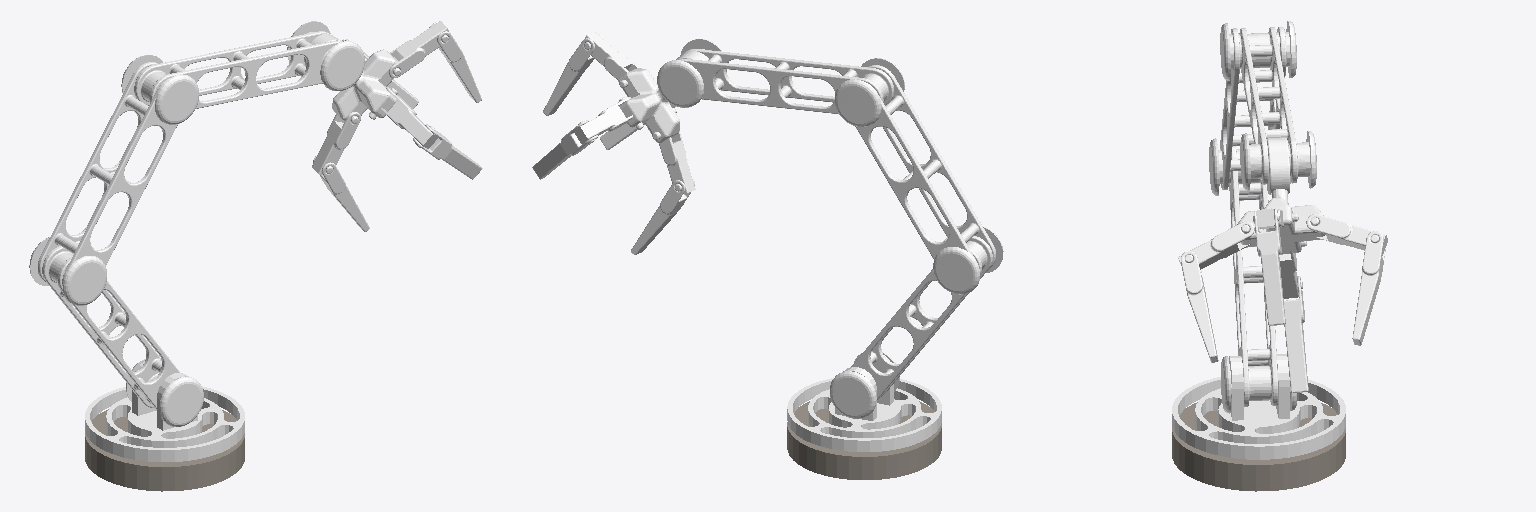
The robot description file, URDF, robot "big_arm_urdf":
<?xml version="1.0" encoding="utf-8"?>
<!-- This URDF was automatically created by SolidWorks to URDF Exporter! Originally created by [author] ([email redacted]) 
     Commit Version: 1.5.1-0-g916b5db  Build Version: 1.5.7152.31018
     For more information, please see http://wiki.ros.org/sw_urdf_exporter -->
<robot
  name="big_arm_urdf">
  <link
    name="base_link">
    <inertial>
      <origin
        xyz="5.10334886736748E-36 -1.54939116262366E-18 0.0248239436619718"
        rpy="0 0 0" />
      <mass
        value="25.4419917555561" />
      <inertia
        ixx="0.150370490434844"
        ixy="-8.31151180314476E-36"
        ixz="-1.89588324363783E-34"
        iyy="0.150370490434844"
        iyz="8.4912872199433E-18"
        izz="0.290141728163054" />
    </inertial>
    <visual>
      <origin
        xyz="0 0 0"
        rpy="0 0 0" />
      <geometry>
        <mesh
          filename="package://big_arm_urdf/meshes/base_link.STL" />
      </geometry>
      <material
        name="">
        <color
          rgba="0.647058823529412 0.619607843137255 0.588235294117647 1" />
      </material>
    </visual>
    <collision>
      <origin
        xyz="0 0 0"
        rpy="0 0 0" />
      <geometry>
        <mesh
          filename="package://big_arm_urdf/meshes/base_link.STL" />
      </geometry>
    </collision>
  </link>
  <link
    name="link_1">
    <inertial>
      <origin
        xyz="-6.72935833564308E-17 5.41722740362335E-16 0.0562858835388927"
        rpy="0 0 0" />
      <mass
        value="1.24036308689963" />
      <inertia
        ixx="0.00602313752636761"
        ixy="2.1208125474502E-05"
        ixz="-1.04263858784396E-18"
        iyy="0.00579248437417585"
        iyz="-5.09141599596496E-19"
        izz="0.0098329939500295" />
    </inertial>
    <visual>
      <origin
        xyz="0 0 0"
        rpy="0 0 0" />
      <geometry>
        <mesh
          filename="package://big_arm_urdf/meshes/link_1.STL" />
      </geometry>
      <material
        name="">
        <color
          rgba="1 1 1 0.32" />
      </material>
    </visual>
    <collision>
      <origin
        xyz="0 0 0"
        rpy="0 0 0" />
      <geometry>
        <mesh
          filename="package://big_arm_urdf/meshes/link_1.STL" />
      </geometry>
    </collision>
  </link>
  <joint
    name="joint_base_1"
    type="continuous">
    <origin
      xyz="0 0 0.025"
      rpy="0 0 0" />
    <parent
      link="base_link" />
    <child
      link="link_1" />
    <axis
      xyz="0 0 1" />
    <limit
      lower="0"
      upper="6.183"
      effort="1000"
      velocity="10" />
  </joint>
  <link
    name="link_2">
    <inertial>
      <origin
        xyz="0.19 3.7470027081099E-16 -3.12389003553903E-16"
        rpy="0 0 0" />
      <mass
        value="1.38058358126134" />
      <inertia
        ixx="0.00248849839246422"
        ixy="5.07965658468404E-18"
        ixz="-3.90312782094782E-18"
        iyy="0.0437476242743762"
        iyz="-8.67361737988404E-19"
        izz="0.0425687229272136" />
    </inertial>
    <visual>
      <origin
        xyz="0 0 0"
        rpy="0 0 0" />
      <geometry>
        <mesh
          filename="package://big_arm_urdf/meshes/link_2.STL" />
      </geometry>
      <material
        name="">
        <color
          rgba="1 1 1 0.32" />
      </material>
    </visual>
    <collision>
      <origin
        xyz="0 0 0"
        rpy="0 0 0" />
      <geometry>
        <mesh
          filename="package://big_arm_urdf/meshes/link_2.STL" />
      </geometry>
    </collision>
  </link>
  <joint
    name="joint_12"
    type="revolute">
    <origin
      xyz="0 0 0.11"
      rpy="-1.5708 -0.95024 -3.0507" />
    <parent
      link="link_1" />
    <child
      link="link_2" />
    <axis
      xyz="0 0 1" />
    <limit
      lower="0"
      upper="6.183"
      effort="1000"
      velocity="10" />
  </joint>
  <link
    name="link_3">
    <inertial>
      <origin
        xyz="0.190000000000009 1.0991207943789E-14 2.35922392732846E-16"
        rpy="0 0 0" />
      <mass
        value="0.492773406896242" />
      <inertia
        ixx="0.000993126064016739"
        ixy="-1.98629226131133E-19"
        ixz="-1.47383732822248E-18"
        iyy="0.00882828983439309"
        iyz="-3.79470760369927E-19"
        izz="0.00857639886635598" />
    </inertial>
    <visual>
      <origin
        xyz="0 0 0"
        rpy="0 0 0" />
      <geometry>
        <mesh
          filename="package://big_arm_urdf/meshes/link_3.STL" />
      </geometry>
      <material
        name="">
        <color
          rgba="1 1 1 0.32" />
      </material>
    </visual>
    <collision>
      <origin
        xyz="0 0 0"
        rpy="0 0 0" />
      <geometry>
        <mesh
          filename="package://big_arm_urdf/meshes/link_3.STL" />
      </geometry>
    </collision>
  </link>
  <joint
    name="joint_23"
    type="revolute">
    <origin
      xyz="0.38 0 0"
      rpy="0 0 -1.207" />
    <parent
      link="link_2" />
    <child
      link="link_3" />
    <axis
      xyz="0 0 1" />
    <limit
      lower="0"
      upper="6.183"
      effort="1000"
      velocity="10" />
  </joint>
  <link
    name="link_4">
    <inertial>
      <origin
        xyz="0.188502975963012 -0.0164677703024454 -0.0171883854493124"
        rpy="0 0 0" />
      <mass
        value="1.38058358126134" />
      <inertia
        ixx="0.00312638334029432"
        ixy="0.00354785475887284"
        ixz="0.00359649566474575"
        iyy="0.0434376808533928"
        iyz="-0.000323506272525106"
        izz="0.0422407814003671" />
    </inertial>
    <visual>
      <origin
        xyz="0 0 0"
        rpy="0 0 0" />
      <geometry>
        <mesh
          filename="package://big_arm_urdf/meshes/link_4.STL" />
      </geometry>
      <material
        name="">
        <color
          rgba="1 1 1 0.32" />
      </material>
    </visual>
    <collision>
      <origin
        xyz="0 0 0"
        rpy="0 0 0" />
      <geometry>
        <mesh
          filename="package://big_arm_urdf/meshes/link_4.STL" />
      </geometry>
    </collision>
  </link>
  <joint
    name="joint_34"
    type="revolute">
    <origin
      xyz="0.38 0 0"
      rpy="0 -0.090932 -0.98436" />
    <parent
      link="link_3" />
    <child
      link="link_4" />
    <axis
      xyz="0 0 1" />
    <limit
      lower="0"
      upper="6.183"
      effort="1000"
      velocity="10" />
  </joint>
  <link
    name="link_5">
    <inertial>
      <origin
        xyz="-0.0141429450104605 7.53233908579176E-08 0.00199995138060591"
        rpy="0 0 0" />
      <mass
        value="0.130378439395373" />
      <inertia
        ixx="9.85693744749924E-05"
        ixy="-2.23559602004266E-09"
        ixz="-7.5663588800688E-11"
        iyy="0.000116973092049288"
        iyz="5.32702014819344E-11"
        izz="0.0001866513337855" />
    </inertial>
    <visual>
      <origin
        xyz="0 0 0"
        rpy="0 0 0" />
      <geometry>
        <mesh
          filename="package://big_arm_urdf/meshes/link_5.STL" />
      </geometry>
      <material
        name="">
        <color
          rgba="1 1 1 0.32" />
      </material>
    </visual>
    <collision>
      <origin
        xyz="0 0 0"
        rpy="0 0 0" />
      <geometry>
        <mesh
          filename="package://big_arm_urdf/meshes/link_5.STL" />
      </geometry>
    </collision>
  </link>
  <joint
    name="joint_45"
    type="revolute">
    <origin
      xyz="0.37701 -0.032936 -0.034377"
      rpy="0.062559 -0.066036 2.3822" />
    <parent
      link="link_4" />
    <child
      link="link_5" />
    <axis
      xyz="0 0 1" />
    <limit
      lower="0"
      upper="6.183"
      effort="1000"
      velocity="10" />
  </joint>
  <link
    name="link_6">
    <inertial>
      <origin
        xyz="-4.97039481107964E-07 2.63088229068842E-06 0.0786774570131245"
        rpy="0 0 0" />
      <mass
        value="0.665759903912911" />
      <inertia
        ixx="0.000952789706275326"
        ixy="-1.38154320697555E-08"
        ixz="-8.31042935225815E-10"
        iyy="0.00095286060074004"
        iyz="4.52211814098408E-09"
        izz="0.00141997991990691" />
    </inertial>
    <visual>
      <origin
        xyz="0 0 0"
        rpy="0 0 0" />
      <geometry>
        <mesh
          filename="package://big_arm_urdf/meshes/link_6.STL" />
      </geometry>
      <material
        name="">
        <color
          rgba="1 1 1 0.32" />
      </material>
    </visual>
    <collision>
      <origin
        xyz="0 0 0"
        rpy="0 0 0" />
      <geometry>
        <mesh
          filename="package://big_arm_urdf/meshes/link_6.STL" />
      </geometry>
    </collision>
  </link>
  <joint
    name="joint_56"
    type="revolute">
    <origin
      xyz="-0.04 0 0.002"
      rpy="-2.3654 1.5708 0.77614" />
    <parent
      link="link_5" />
    <child
      link="link_6" />
    <axis
      xyz="0 0 1" />
    <limit
      lower="0"
      upper="6.183"
      effort="1000"
      velocity="10" />
  </joint>
  <link
    name="grip_1">
    <inertial>
      <origin
        xyz="0.0674233348638277 -0.00149730770397288 0.00988726780355913"
        rpy="0 0 0" />
      <mass
        value="0.11992363568227" />
      <inertia
        ixx="2.32996122881845E-05"
        ixy="-3.6096640394024E-12"
        ixz="4.42085269022021E-13"
        iyy="0.000147857015499886"
        iyz="8.71359919641666E-07"
        izz="0.000142235051121448" />
    </inertial>
    <visual>
      <origin
        xyz="0 0 0"
        rpy="0 0 0" />
      <geometry>
        <mesh
          filename="package://big_arm_urdf/meshes/grip_1.STL" />
      </geometry>
      <material
        name="">
        <color
          rgba="1 1 1 0.32" />
      </material>
    </visual>
    <collision>
      <origin
        xyz="0 0 0"
        rpy="0 0 0" />
      <geometry>
        <mesh
          filename="package://big_arm_urdf/meshes/grip_1.STL" />
      </geometry>
    </collision>
  </link>
  <joint
    name="joint_6_g1"
    type="revolute">
    <origin
      xyz="-0.011072 0.05897 0.091"
      rpy="-1.7211 -0.33932 1.7564" />
    <parent
      link="link_6" />
    <child
      link="grip_1" />
    <axis
      xyz="0 0 1" />
    <limit
      lower="0"
      upper="6.183"
      effort="1000"
      velocity="10" />
  </joint>
  <link
    name="grip_1b">
    <inertial>
      <origin
        xyz="0.0843265899344989 -0.00212380310637394 0.0099999996377477"
        rpy="0 0 0" />
      <mass
        value="0.141643537240913" />
      <inertia
        ixx="2.42692219268835E-05"
        ixy="1.63887843182053E-05"
        ixz="7.78137406188141E-12"
        iyy="0.000336749313354746"
        iyz="-5.98415142376405E-12"
        izz="0.000330285690314077" />
    </inertial>
    <visual>
      <origin
        xyz="0 0 0"
        rpy="0 0 0" />
      <geometry>
        <mesh
          filename="package://big_arm_urdf/meshes/grip_1b.STL" />
      </geometry>
      <material
        name="">
        <color
          rgba="1 1 1 0.32" />
      </material>
    </visual>
    <collision>
      <origin
        xyz="0 0 0"
        rpy="0 0 0" />
      <geometry>
        <mesh
          filename="package://big_arm_urdf/meshes/grip_1b.STL" />
      </geometry>
    </collision>
  </link>
  <joint
    name="joint_grip_1b"
    type="revolute">
    <origin
      xyz="0.11 0 0"
      rpy="0.011605 0.14985 -1.4932" />
    <parent
      link="grip_1" />
    <child
      link="grip_1b" />
    <axis
      xyz="0 0 1" />
    <limit
      lower="0"
      upper="6.183"
      effort="1000"
      velocity="10" />
  </joint>
  <link
    name="grip_2">
    <inertial>
      <origin
        xyz="0.0659446867940136 -0.0140429541455789 0.0100000004099546"
        rpy="0 0 0" />
      <mass
        value="0.119923642785374" />
      <inertia
        ixx="2.87087256812529E-05"
        ixy="2.54007949129357E-05"
        ixz="-6.35189378224036E-13"
        iyy="0.000142579853996741"
        iyz="-2.45328437956385E-12"
        izz="0.000142103089158568" />
    </inertial>
    <visual>
      <origin
        xyz="0 0 0"
        rpy="0 0 0" />
      <geometry>
        <mesh
          filename="package://big_arm_urdf/meshes/grip_2.STL" />
      </geometry>
      <material
        name="">
        <color
          rgba="1 1 1 0.32" />
      </material>
    </visual>
    <collision>
      <origin
        xyz="0 0 0"
        rpy="0 0 0" />
      <geometry>
        <mesh
          filename="package://big_arm_urdf/meshes/grip_2.STL" />
      </geometry>
    </collision>
  </link>
  <joint
    name="joint_6_g2"
    type="revolute">
    <origin
      xyz="0.05897 0.011072 0.091"
      rpy="-1.5708 -0.19278 0.1856" />
    <parent
      link="link_6" />
    <child
      link="grip_2" />
    <axis
      xyz="0 0 1" />
    <limit
      lower="0"
      upper="6.183"
      effort="1000"
      velocity="10" />
  </joint>
  <link
    name="grip_2b">
    <inertial>
      <origin
        xyz="0.0843265865207311 -0.00212380179885391 0.00999999957992204"
        rpy="0 0 0" />
      <mass
        value="0.141643614685743" />
      <inertia
        ixx="2.42692404977318E-05"
        ixy="1.63887852150154E-05"
        ixz="-1.45187447117269E-13"
        iyy="0.000336749419639376"
        iyz="-4.62085035355829E-12"
        izz="0.000330285797805327" />
    </inertial>
    <visual>
      <origin
        xyz="0 0 0"
        rpy="0 0 0" />
      <geometry>
        <mesh
          filename="package://big_arm_urdf/meshes/grip_2b.STL" />
      </geometry>
      <material
        name="">
        <color
          rgba="1 1 1 0.32" />
      </material>
    </visual>
    <collision>
      <origin
        xyz="0 0 0"
        rpy="0 0 0" />
      <geometry>
        <mesh
          filename="package://big_arm_urdf/meshes/grip_2b.STL" />
      </geometry>
    </collision>
  </link>
  <joint
    name="joint_grip_2b"
    type="revolute">
    <origin
      xyz="0.10759 -0.022911 0"
      rpy="0 0 -1.5817" />
    <parent
      link="grip_2" />
    <child
      link="grip_2b" />
    <axis
      xyz="0 0 1" />
    <limit
      lower="0"
      upper="6.183"
      effort="1000"
      velocity="10" />
  </joint>
  <link
    name="grip_3">
    <inertial>
      <origin
        xyz="0.0674233349821467 -0.000216683054989369 -0.00999765235365951"
        rpy="0 0 0" />
      <mass
        value="0.119923637058051" />
      <inertia
        ixx="2.32996122767126E-05"
        ixy="-3.01255348785664E-12"
        ixz="1.15039704239531E-12"
        iyy="0.0001479862078452"
        iyz="-1.27510854779785E-07"
        izz="0.000142105857428452" />
    </inertial>
    <visual>
      <origin
        xyz="0 0 0"
        rpy="0 0 0" />
      <geometry>
        <mesh
          filename="package://big_arm_urdf/meshes/grip_3.STL" />
      </geometry>
      <material
        name="">
        <color
          rgba="1 1 1 0.32" />
      </material>
    </visual>
    <collision>
      <origin
        xyz="0 0 0"
        rpy="0 0 0" />
      <geometry>
        <mesh
          filename="package://big_arm_urdf/meshes/grip_3.STL" />
      </geometry>
    </collision>
  </link>
  <joint
    name="joint_6_g3"
    type="revolute">
    <origin
      xyz="0.011072 -0.05897 0.091"
      rpy="-1.5491 -0.33932 -1.3852" />
    <parent
      link="link_6" />
    <child
      link="grip_3" />
    <axis
      xyz="0 0 1" />
    <limit
      lower="0"
      upper="6.183"
      effort="1000"
      velocity="10" />
  </joint>
  <link
    name="grip_3b">
    <inertial>
      <origin
        xyz="0.0843265835470308 -0.00212380359506137 -0.0100000017555446"
        rpy="0 0 0" />
      <mass
        value="0.141643615845273" />
      <inertia
        ixx="2.42692401970422E-05"
        ixy="1.6388779687381E-05"
        ixz="-2.83700056075674E-12"
        iyy="0.000336749373130495"
        iyz="-7.01396464170066E-12"
        izz="0.000330285749652679" />
    </inertial>
    <visual>
      <origin
        xyz="0 0 0"
        rpy="0 0 0" />
      <geometry>
        <mesh
          filename="package://big_arm_urdf/meshes/grip_3b.STL" />
      </geometry>
      <material
        name="">
        <color
          rgba="1 1 1 0.32" />
      </material>
    </visual>
    <collision>
      <origin
        xyz="0 0 0"
        rpy="0 0 0" />
      <geometry>
        <mesh
          filename="package://big_arm_urdf/meshes/grip_3b.STL" />
      </geometry>
    </collision>
  </link>
  <joint
    name="joint_grip_3b"
    type="revolute">
    <origin
      xyz="0.11 0 0"
      rpy="-0.013124 -0.017244 -0.9202" />
    <parent
      link="grip_3" />
    <child
      link="grip_3b" />
    <axis
      xyz="0 0 1" />
    <limit
      lower="0"
      upper="6.183"
      effort="1000"
      velocity="10" />
  </joint>
  <link
    name="grip_4">
    <inertial>
      <origin
        xyz="0.0674233355383608 -1.42527756957778E-09 0.0100000001980208"
        rpy="0 0 0" />
      <mass
        value="0.119923640551901" />
      <inertia
        ixx="2.32996121229523E-05"
        ixy="3.46372397723362E-12"
        ixz="-8.87942195128388E-13"
        iyy="0.000147988969529785"
        iyz="-2.64203844349206E-12"
        izz="0.000142103091352165" />
    </inertial>
    <visual>
      <origin
        xyz="0 0 0"
        rpy="0 0 0" />
      <geometry>
        <mesh
          filename="package://big_arm_urdf/meshes/grip_4.STL" />
      </geometry>
      <material
        name="">
        <color
          rgba="1 1 1 0.32" />
      </material>
    </visual>
    <collision>
      <origin
        xyz="0 0 0"
        rpy="0 0 0" />
      <geometry>
        <mesh
          filename="package://big_arm_urdf/meshes/grip_4.STL" />
      </geometry>
    </collision>
  </link>
  <joint
    name="joint_6_g4"
    type="revolute">
    <origin
      xyz="-0.05897 -0.011072 0.091"
      rpy="1.5708 -0.4026 -2.956" />
    <parent
      link="link_6" />
    <child
      link="grip_4" />
    <axis
      xyz="0 0 1" />
    <limit
      lower="0"
      upper="6.183"
      effort="1000"
      velocity="10" />
  </joint>
  <link
    name="grip_4b">
    <inertial>
      <origin
        xyz="0.0843265859870006 -0.0021238019435485 -0.0100000004854647"
        rpy="0 0 0" />
      <mass
        value="0.141643613852148" />
      <inertia
        ixx="2.42692402907718E-05"
        ixy="1.63887841722403E-05"
        ixz="-6.86254961946683E-13"
        iyy="0.000336749412376889"
        iyz="-4.57853621959074E-12"
        izz="0.000330285790627453" />
    </inertial>
    <visual>
      <origin
        xyz="0 0 0"
        rpy="0 0 0" />
      <geometry>
        <mesh
          filename="package://big_arm_urdf/meshes/grip_4b.STL" />
      </geometry>
      <material
        name="">
        <color
          rgba="1 1 1 0.32" />
      </material>
    </visual>
    <collision>
      <origin
        xyz="0 0 0"
        rpy="0 0 0" />
      <geometry>
        <mesh
          filename="package://big_arm_urdf/meshes/grip_4b.STL" />
      </geometry>
    </collision>
  </link>
  <joint
    name="joint_grip_4b"
    type="revolute">
    <origin
      xyz="0.11 0 0"
      rpy="3.1416 0 1.2805" />
    <parent
      link="grip_4" />
    <child
      link="grip_4b" />
    <axis
      xyz="0 0 1" />
    <limit
      lower="0"
      upper="6.183"
      effort="1000"
      velocity="10" />
  </joint>
</robot>

--- Facts derived from the render (not from the file) ---
3 views of the same robot in one strip: view 1: azimuth 30°, elevation 25°; view 2: azimuth 150°, elevation 25°; view 3: azimuth 270°, elevation 25° (orthographic).
Model big_arm_urdf with 15 links and 14 joints (13 revolute, 1 continuous), rooted at base_link, posed every joint at zero.
Links seen in each view (by area): view 1: link_4, link_2, link_1, link_3, base_link, link_6, grip_1, grip_3, grip_4, grip_4b, grip_1b, grip_3b; view 2: link_4, link_2, link_1, link_3, base_link, link_6, grip_3b, grip_1b, grip_3, grip_2b, grip_1, grip_2; view 3: link_1, link_4, base_link, link_2, link_3, link_6, grip_1b, grip_2b, grip_3b, grip_4b, grip_4, grip_2 (+2 smaller).
Link boxes in pixels (x1=…): link_4: x1=121, y1=21, x2=364, y2=124; link_2: x1=29, y1=237, x2=203, y2=426; link_1: x1=85, y1=361, x2=244, y2=461; link_3: x1=38, y1=62, x2=177, y2=285; base_link: x1=85, y1=409, x2=244, y2=491; link_6: x1=332, y1=49, x2=400, y2=123; grip_1: x1=389, y1=21, x2=448, y2=77; grip_3: x1=312, y1=112, x2=360, y2=174; grip_4: x1=381, y1=87, x2=438, y2=148; grip_4b: x1=413, y1=124, x2=482, y2=179; grip_1b: x1=429, y1=22, x2=481, y2=102; grip_3b: x1=313, y1=156, x2=369, y2=231; link_4: x1=657, y1=39, x2=904, y2=126; link_2: x1=830, y1=227, x2=1003, y2=418; link_1: x1=787, y1=355, x2=941, y2=451; link_3: x1=855, y1=65, x2=995, y2=268; base_link: x1=787, y1=401, x2=941, y2=479; link_6: x1=618, y1=68, x2=679, y2=142; grip_3b: x1=631, y1=178, x2=694, y2=254; grip_1b: x1=543, y1=34, x2=602, y2=115; grip_3: x1=659, y1=131, x2=695, y2=193; grip_2b: x1=532, y1=120, x2=597, y2=179; grip_1: x1=584, y1=32, x2=637, y2=79; grip_2: x1=574, y1=97, x2=632, y2=143; link_1: x1=1172, y1=354, x2=1345, y2=459; link_4: x1=1220, y1=21, x2=1316, y2=190; base_link: x1=1172, y1=402, x2=1345, y2=491; link_2: x1=1209, y1=138, x2=1296, y2=413; link_3: x1=1220, y1=27, x2=1286, y2=189; link_6: x1=1237, y1=189, x2=1325, y2=254; grip_1b: x1=1254, y1=208, x2=1285, y2=325; grip_2b: x1=1352, y1=231, x2=1385, y2=345; grip_3b: x1=1284, y1=276, x2=1308, y2=393; grip_4b: x1=1181, y1=251, x2=1218, y2=362; grip_4: x1=1178, y1=221, x2=1254, y2=269; grip_2: x1=1306, y1=214, x2=1387, y2=255.
Bounding box of the posed robot: 0.9693 × 0.3718 × 0.8106 m (x, y, z).
Meshes: 15 distinct files referenced, 15 mesh visuals loaded (15 binary STL).